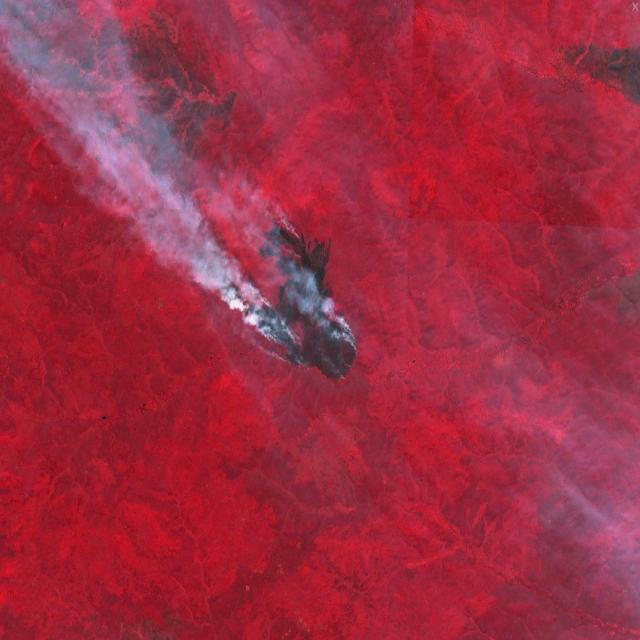fire: (237, 217, 361, 399)
